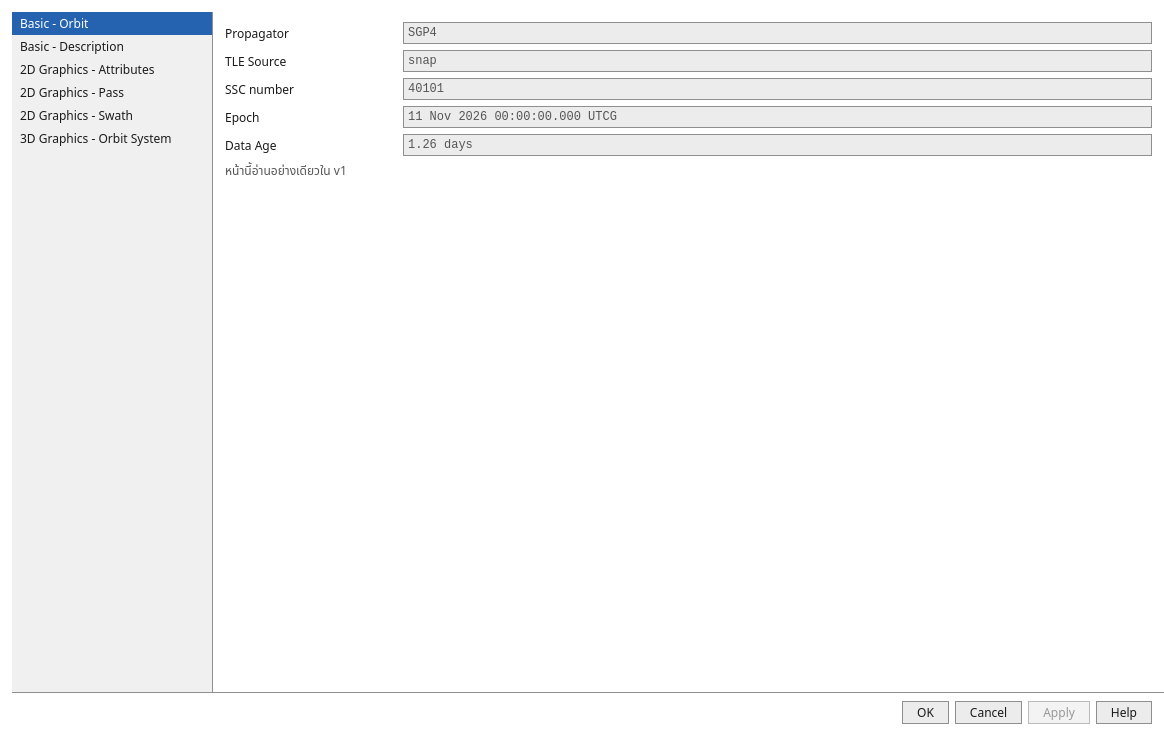
Scenario: a server 422 › selects the page that holds the field
Click the tab "2D Graphics - Pass": click(112, 92) [12,81,212,104]
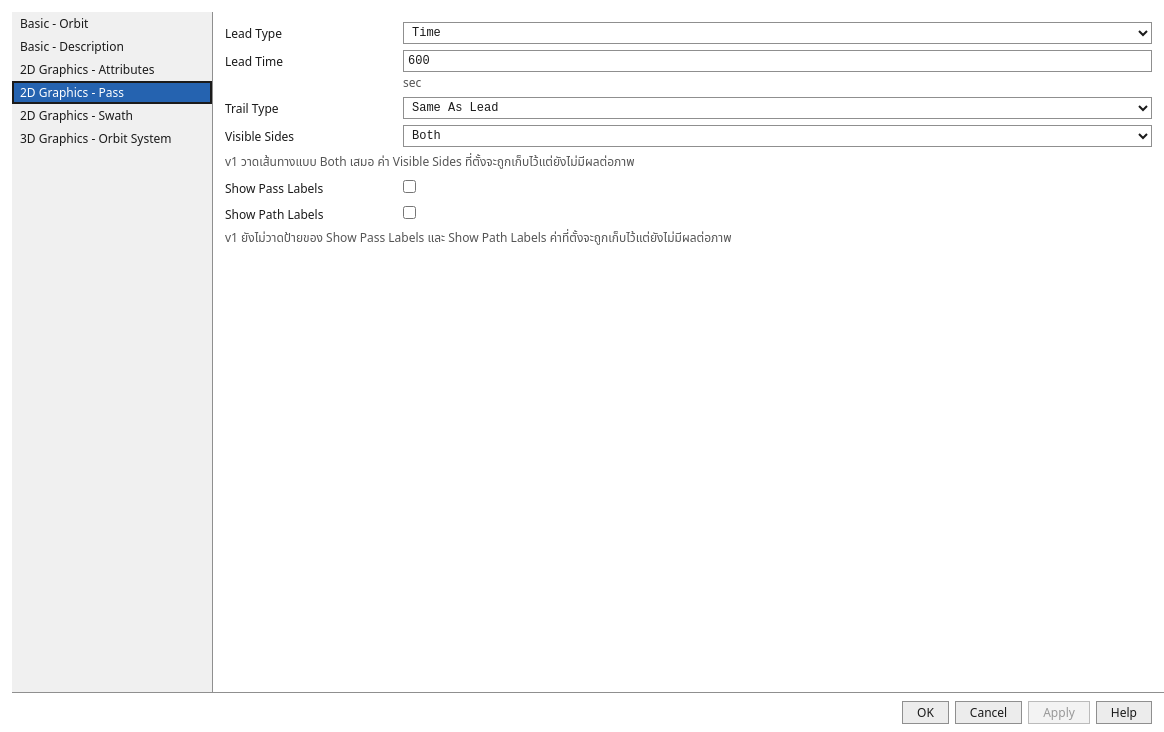
Select "Percent" in the dropdown labelled "Lead Type": (778, 33) [403,22,1152,44]
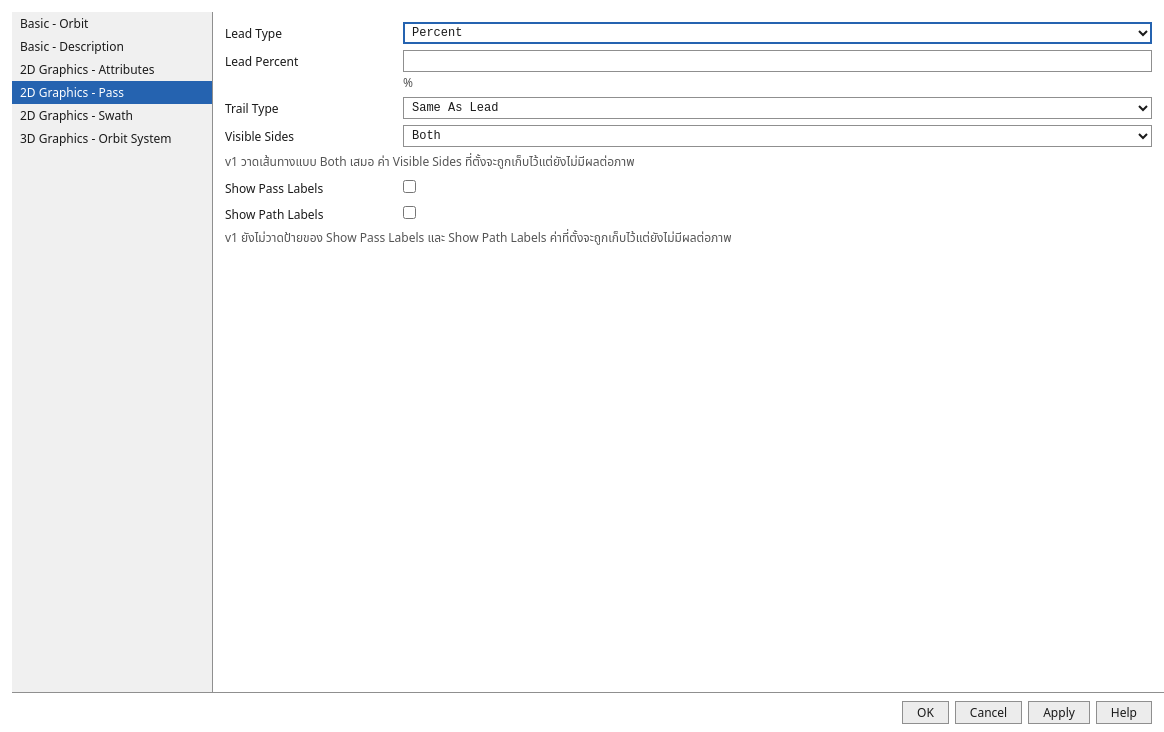
Click the tab "Basic - Description": click(112, 46) [12,35,212,58]
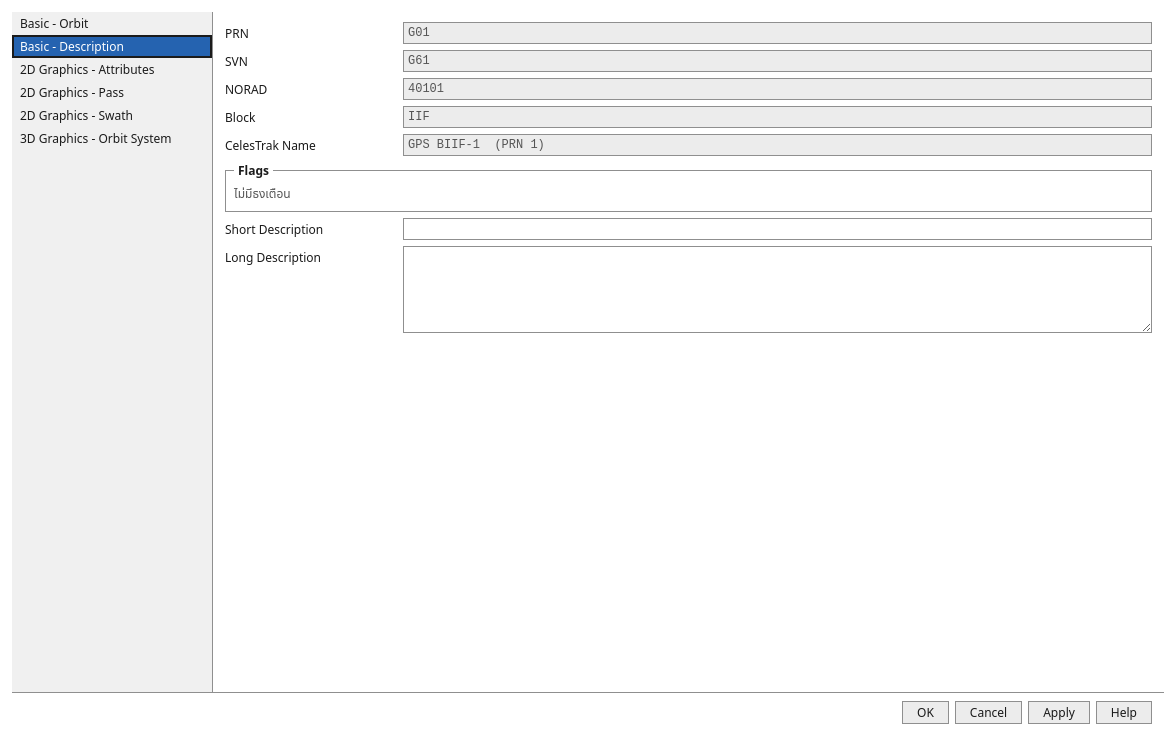
Click the button "Apply": click(1059, 712) [1028,701,1090,724]
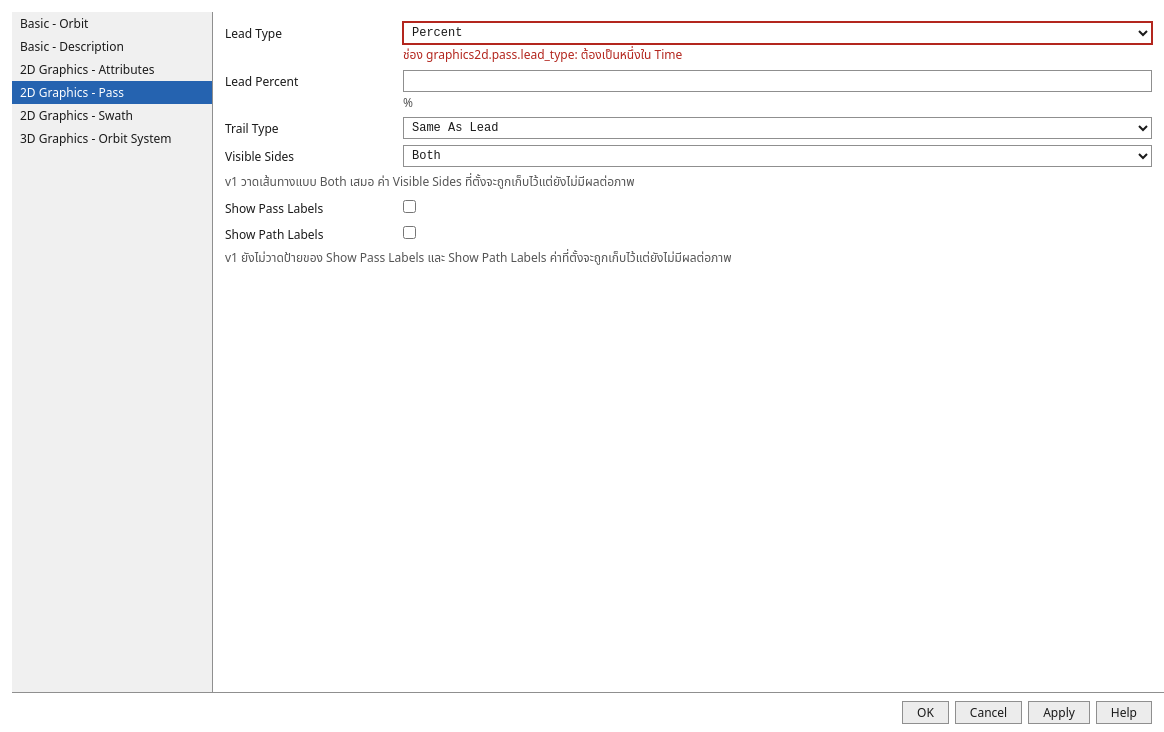
Now the message "ช่อง graphics2d.pass.lead_type: ต้องเป็นหนึ่งใน Time" is shown, box [403,46,682,63]
